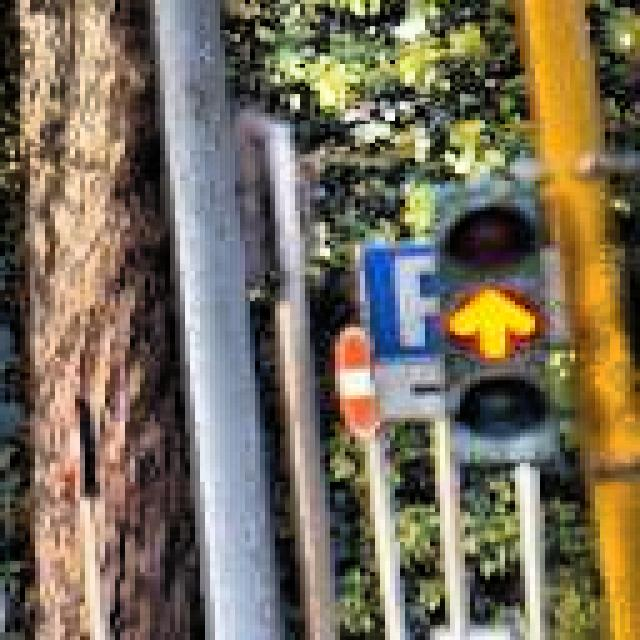yellow: (441, 190, 554, 446)
